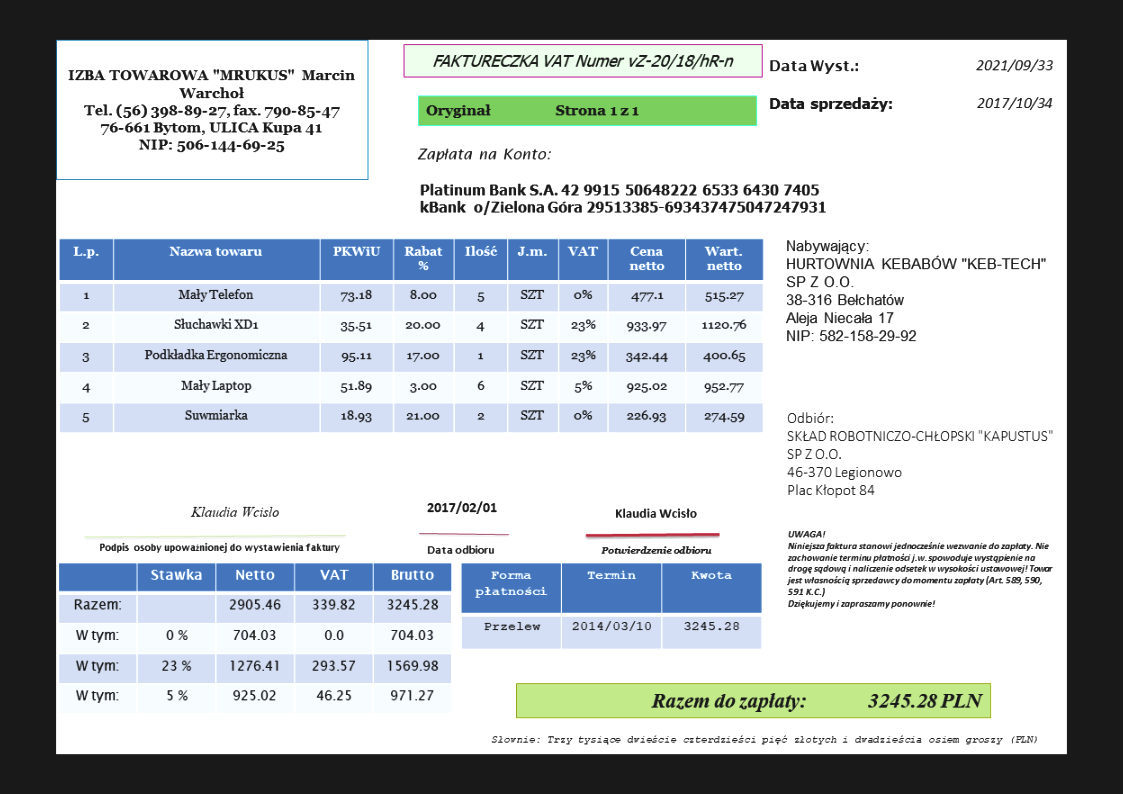Table: (58, 237, 764, 435), (57, 562, 451, 716), (459, 561, 764, 651)
TextBox: (784, 237, 1050, 345), (65, 65, 356, 157), (785, 410, 1056, 500), (784, 527, 1056, 612), (416, 181, 827, 216), (649, 690, 984, 715), (488, 733, 1041, 746), (430, 51, 737, 71), (423, 99, 641, 121), (98, 540, 343, 555), (415, 143, 554, 165), (765, 93, 896, 115), (768, 56, 862, 77), (188, 501, 281, 520), (973, 55, 1054, 76), (599, 543, 714, 557), (974, 93, 1054, 112), (423, 499, 500, 517), (611, 506, 698, 521), (424, 543, 494, 556)
